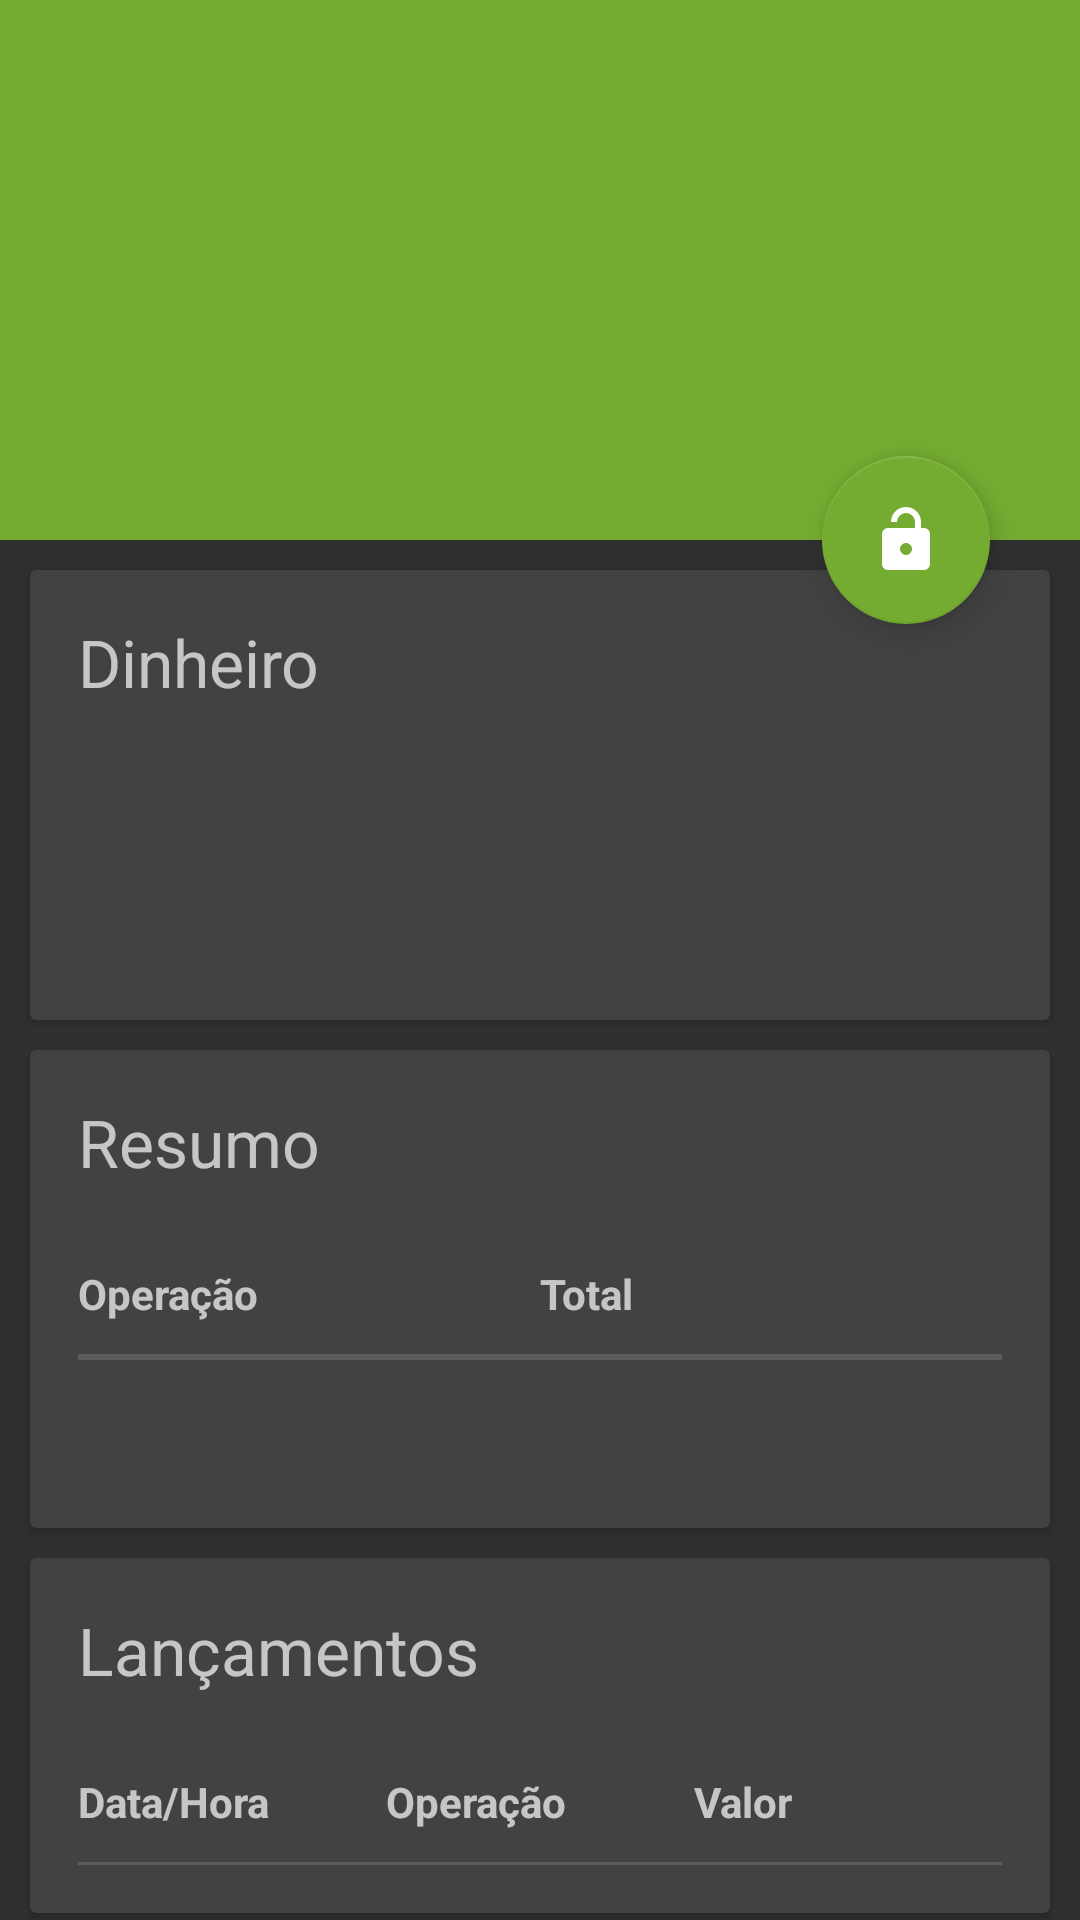

Icons on this 1080*1920 Android screen, each with the point to tap as point (x, y):
unlock: point (906, 540)
